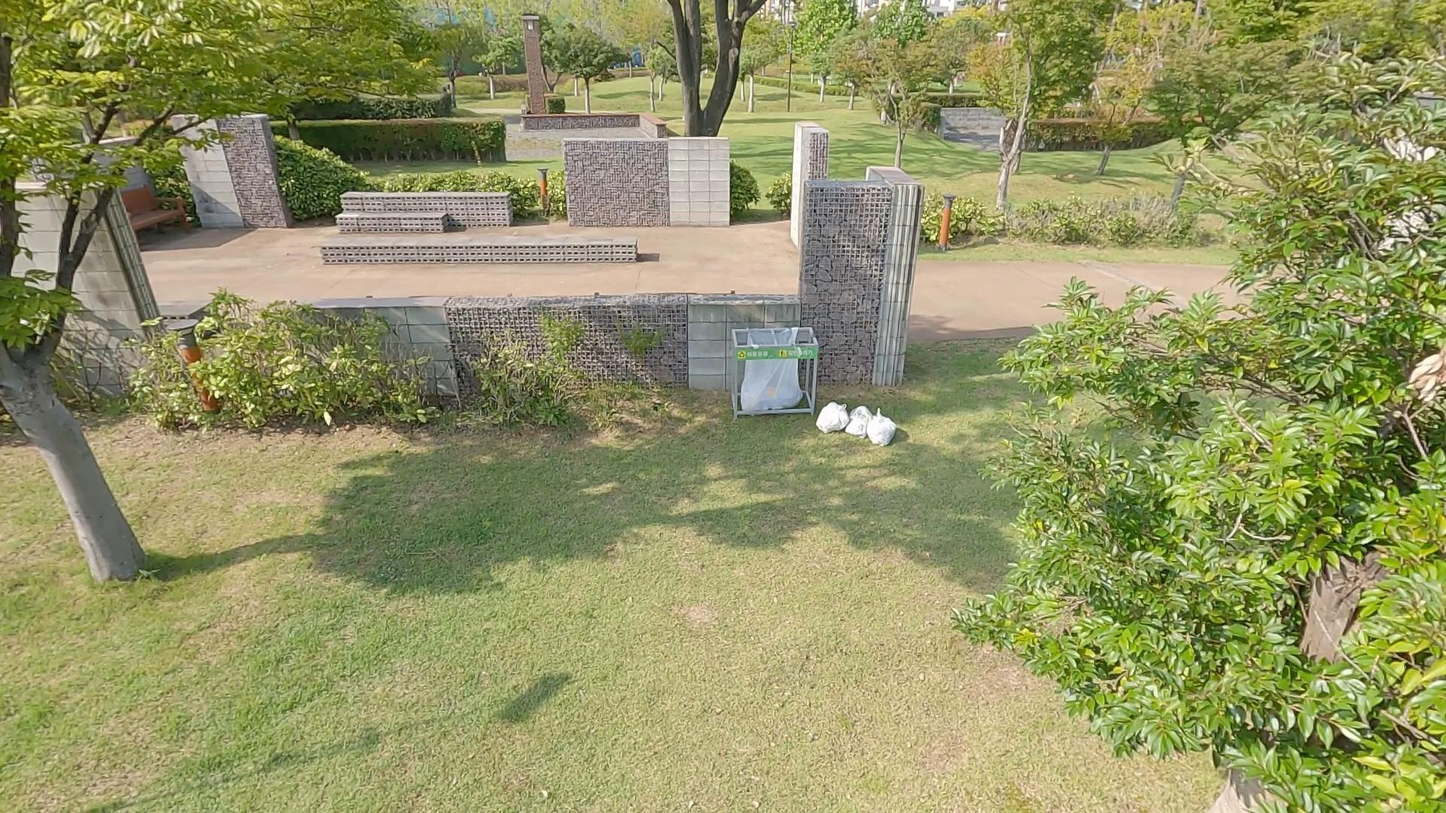trash: (814, 399, 852, 438), (865, 406, 898, 446), (844, 402, 875, 440)
